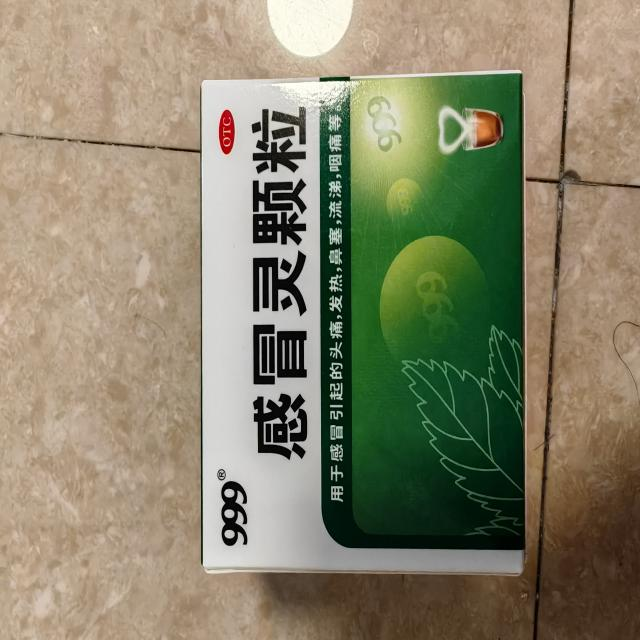box: (194, 65, 533, 596)
